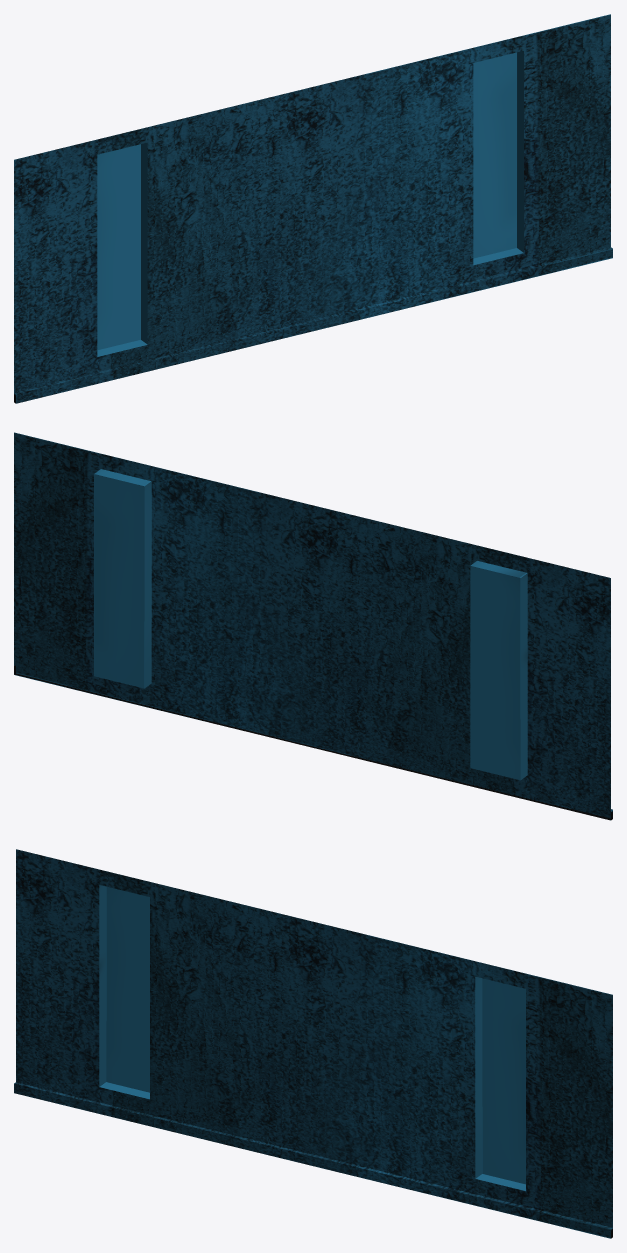
Rendered from arkalık.fbx.
3 views of the same model, one above another, from view 1: azimuth 30°, elevation 25°; view 2: azimuth 150°, elevation 25°; view 3: azimuth 330°, elevation 25° (orthographic).
Parts seen in each view (by area): view 1: Plane.001; view 2: Plane.001; view 3: Plane.001.
Part boxes in pixels (bbox=[...]): Plane.001: bbox=[14, 14, 612, 403]; Plane.001: bbox=[14, 432, 612, 820]; Plane.001: bbox=[14, 849, 612, 1238].
Size of the model in its own units: 1196 by 464 by 30.89.
